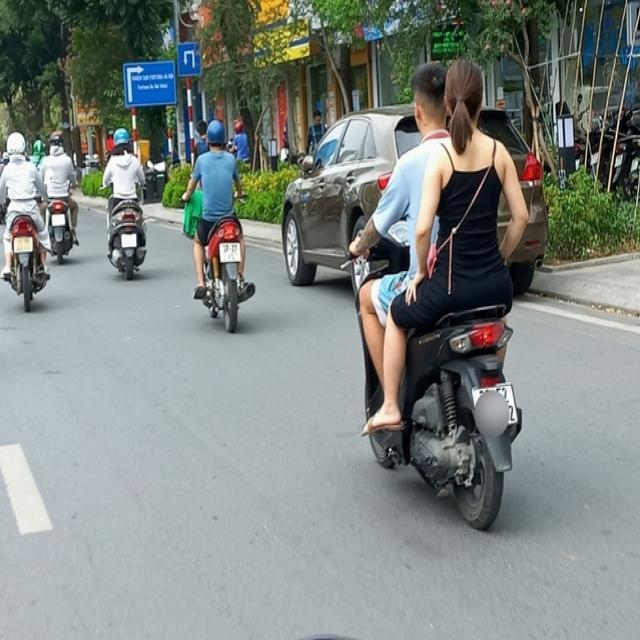no_helmet: (438, 43, 488, 154)
